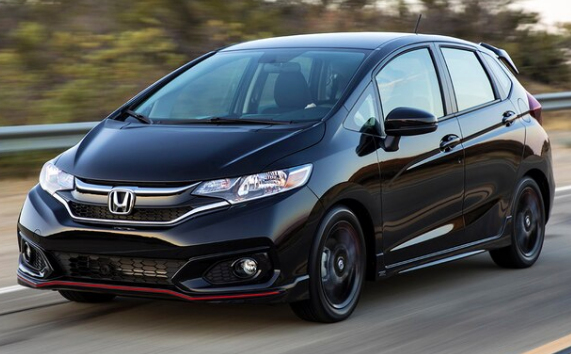car: (15, 30, 557, 328)
